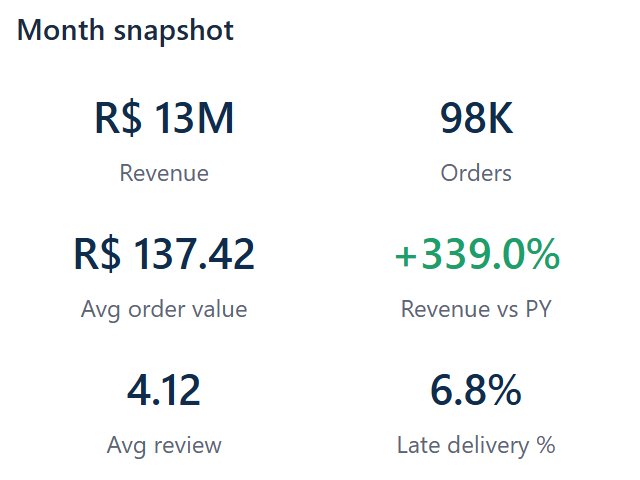

What the dashboard file says about the page in this screenshot:
{"tool":"powerbi","page":{"name":"Tooltip - Month","canvas":[320,240],"ordinal":5},"visuals":[{"type":"textbox","box":[8,4,304,30],"z":12200},{"type":"card","fields":{"Values":["_Measures.Revenue"]},"box":[8,36,148,64],"z":12300},{"type":"card","fields":{"Values":["_Measures.Orders"]},"box":[164,36,148,64],"z":12400},{"type":"card","fields":{"Values":["_Measures.AOV"]},"box":[8,104,148,64],"z":12500},{"type":"card","fields":{"Values":["_Measures.Revenue YoY %"]},"box":[164,104,148,64],"z":12600},{"type":"card","fields":{"Values":["_Measures.Avg Review Score"]},"box":[8,172,148,64],"z":12700},{"type":"card","fields":{"Values":["_Measures.Late Delivery %"]},"box":[164,172,148,64],"z":12800}]}

Visuals, with their boxes in screenshot pixels (x1, y1, x2, y2), scaled from the page's 320x240 canvas onto the 640x480 screenshot:
textbox: 16 8 624 68
card - _Measures.Revenue: 16 72 312 200
card - _Measures.Orders: 328 72 624 200
card - _Measures.AOV: 16 208 312 336
card - _Measures.Revenue YoY %: 328 208 624 336
card - _Measures.Avg Review Score: 16 344 312 472
card - _Measures.Late Delivery %: 328 344 624 472
